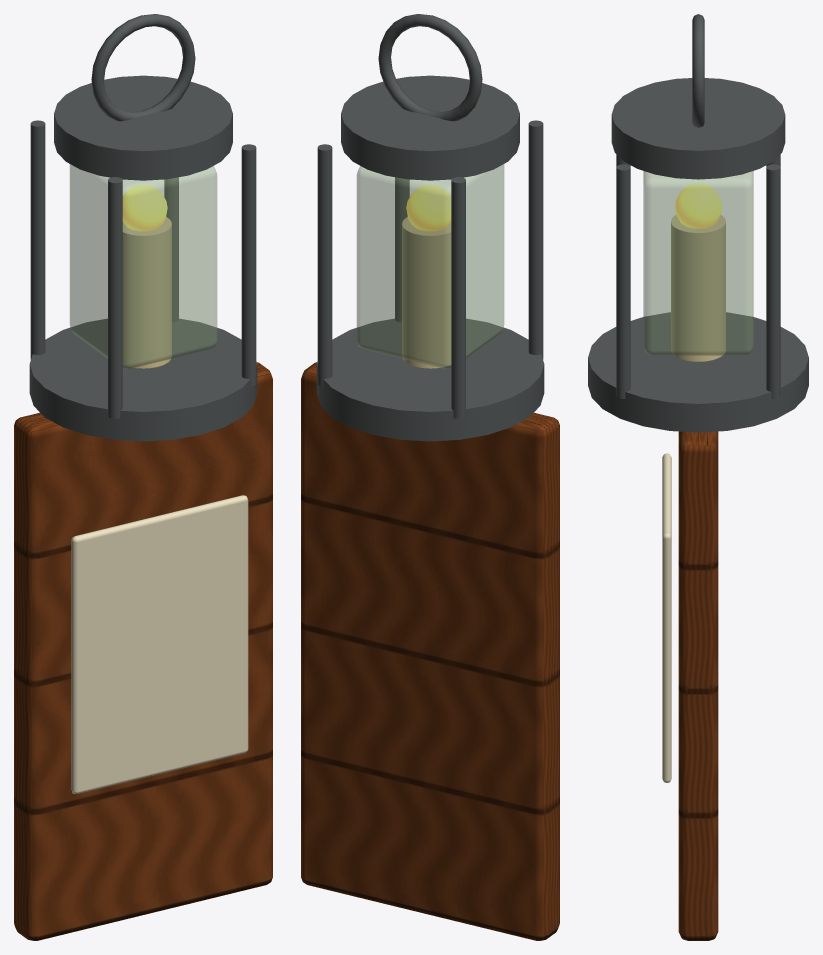
Rendered from adventurers-tavern-and-guild-hall-notice-lantern-ee3a4c55__24752.glb.
3 views of the same model, side by side, from view 1: azimuth 30°, elevation 25°; view 2: azimuth 150°, elevation 25°; view 3: azimuth 270°, elevation 25° (orthographic). The views are drawn at different scales.
Visible parts, largest first — view 1: notice-lantern; view 2: notice-lantern; view 3: notice-lantern.
Part boxes in pixels (x1,y1,x2,y2): notice-lantern: (14,14,272,940); notice-lantern: (301,14,559,940); notice-lantern: (588,14,808,940).
Bounding box in the file's own units: 0.3501 × 1.21 × 0.28.
Materials: 6 (1 with a texture image).
